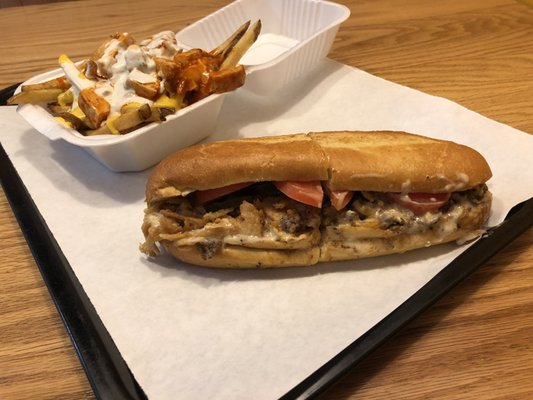sandwich: (275, 195, 533, 400), (0, 128, 152, 400)
soup: (138, 131, 495, 269)
sushi: (1, 0, 350, 176), (11, 21, 252, 173)
